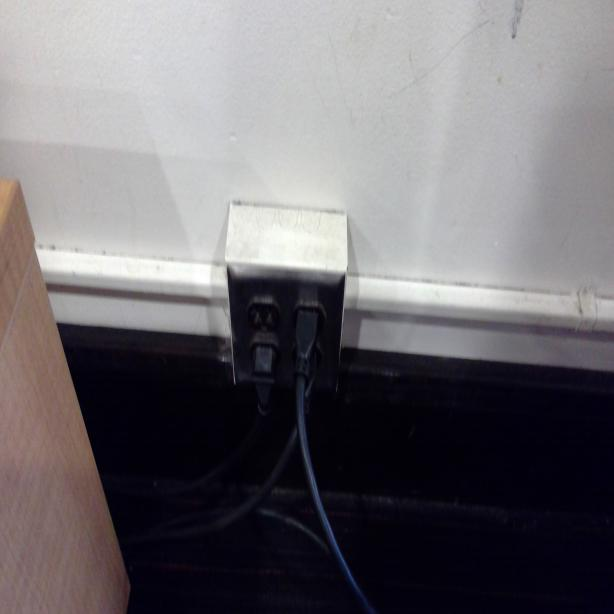typeb: (250, 298, 278, 332)
